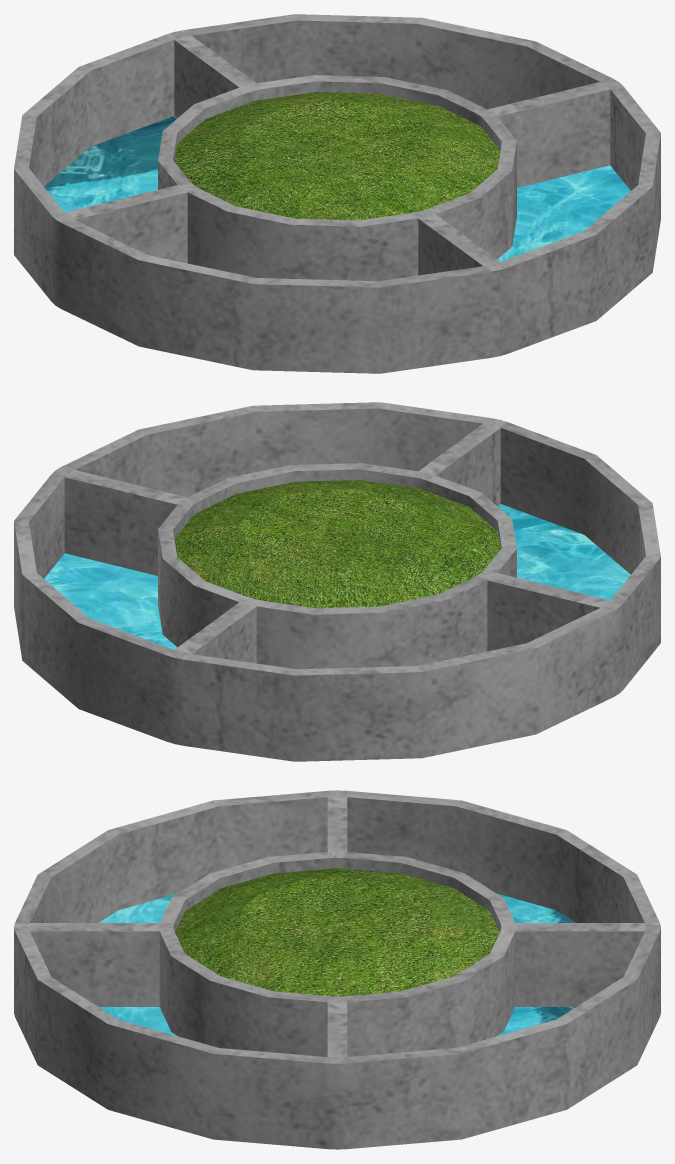
The model's file is be_boi_3.glb.
3 views of the same model, one above another, from view 1: azimuth 30°, elevation 25°; view 2: azimuth 150°, elevation 25°; view 3: azimuth 270°, elevation 25° (orthographic).
Visible parts, largest first — view 1: Cylinder004; view 2: Cylinder004; view 3: Cylinder004.
Part boxes in pixels (left/top/right/bottom): Cylinder004: left=14, top=14, right=660, bottom=373; Cylinder004: left=14, top=402, right=660, bottom=761; Cylinder004: left=14, top=790, right=660, bottom=1149.
Size of the model in its own units: 8.88 by 1.43 by 8.88.
1 material, 1 textured.
